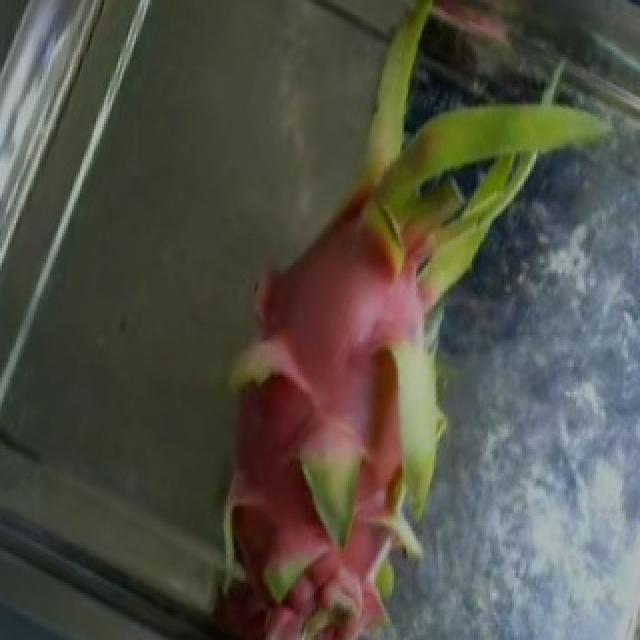fruit: (210, 0, 636, 357), (96, 225, 450, 638)
